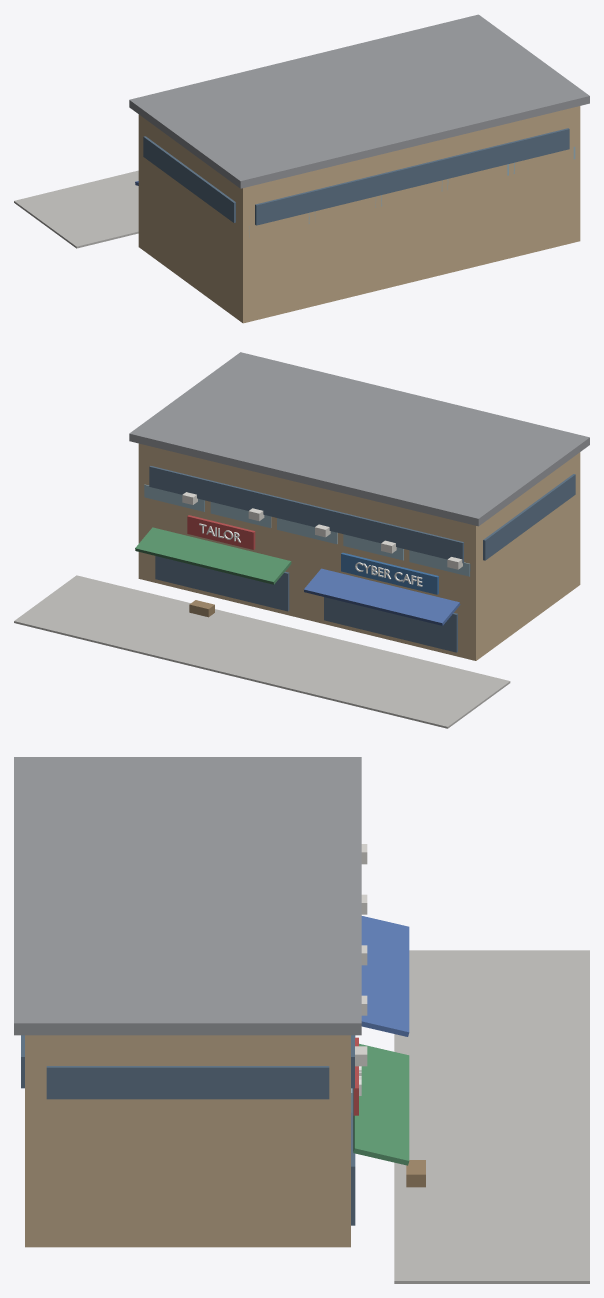
File: garki_block_4.glb
3 views of the same model, one above another, from view 1: azimuth 30°, elevation 25°; view 2: azimuth 150°, elevation 25°; view 3: azimuth 270°, elevation 25° (orthographic). The views are drawn at different scales.
Visible parts, largest first — view 1: BLD_garki_block_4; view 2: BLD_garki_block_4; view 3: BLD_garki_block_4.
Part boxes in pixels (<box>): BLD_garki_block_4: <box>14,14,589,323</box>; BLD_garki_block_4: <box>14,352,589,728</box>; BLD_garki_block_4: <box>14,757,589,1283</box>.
Bounding box in the file's own units: 36 × 11.6 × 26.5.
